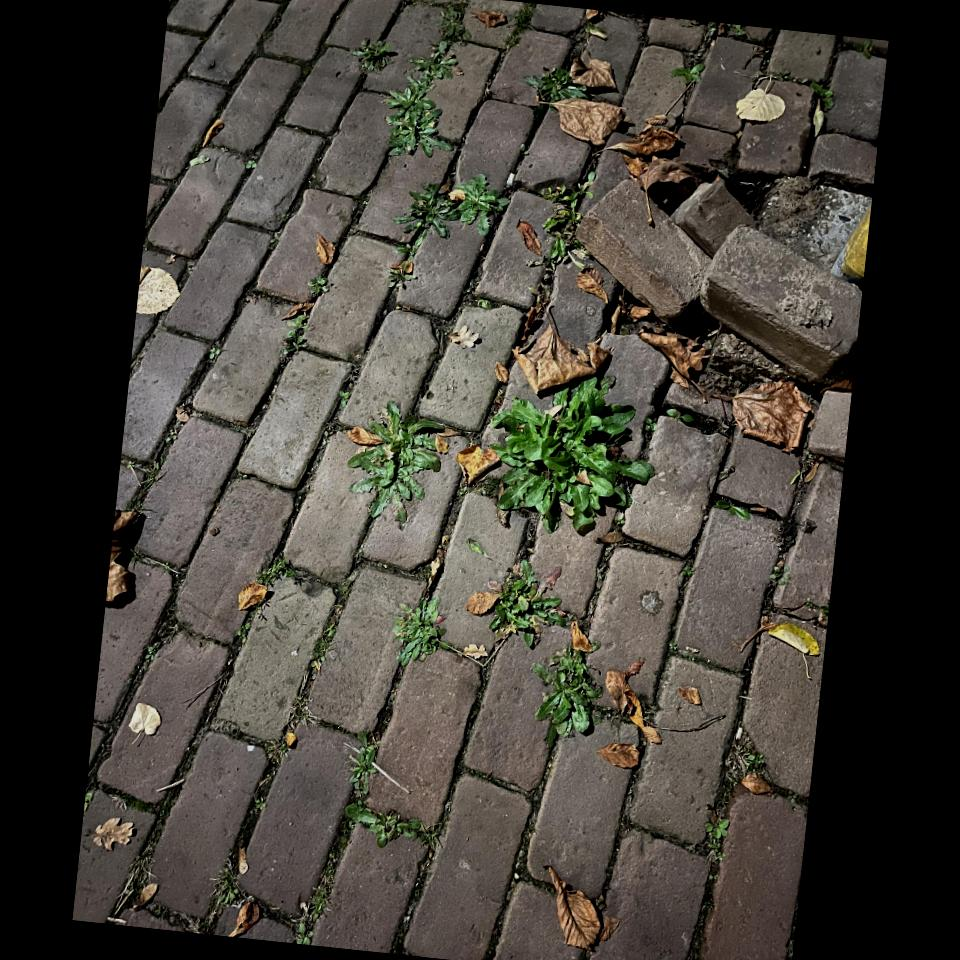weed: (493, 378, 654, 532), (348, 401, 442, 522), (465, 560, 566, 648), (385, 41, 456, 157), (393, 173, 507, 238), (294, 822, 350, 944), (532, 648, 601, 746), (542, 171, 595, 270), (393, 596, 452, 666), (346, 802, 436, 847), (525, 68, 589, 103), (345, 732, 378, 794), (351, 39, 396, 72)
